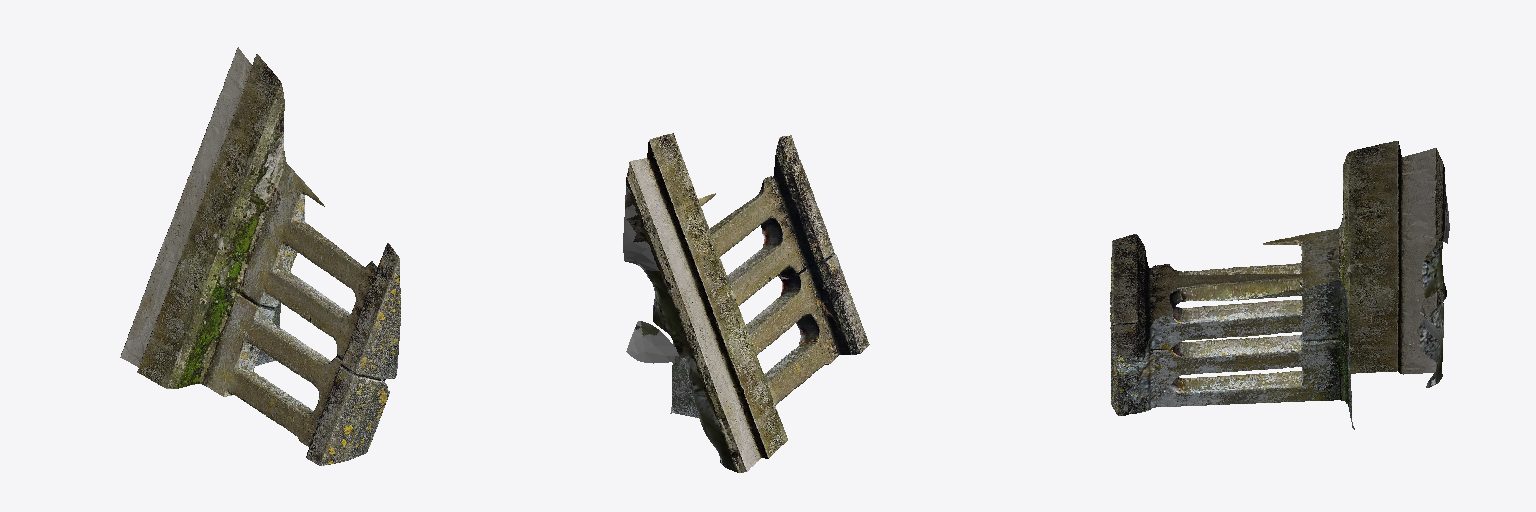
3 renders of one model, left to right at view 1: azimuth 30°, elevation 25°; view 2: azimuth 150°, elevation 25°; view 3: azimuth 270°, elevation 25°, orthographic.
Size of the model in its own units: 0.5811 by 1.34 by 1.42.
2 materials, 1 textured.